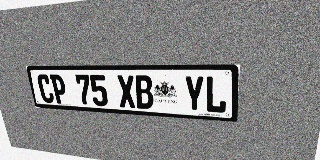5: (89, 75, 109, 107)
7: (74, 75, 93, 106)
B: (134, 75, 154, 109)
C: (36, 74, 55, 103)
L: (205, 76, 227, 114)
P: (49, 74, 68, 104)
X: (116, 75, 136, 108)
Y: (184, 76, 204, 112)
